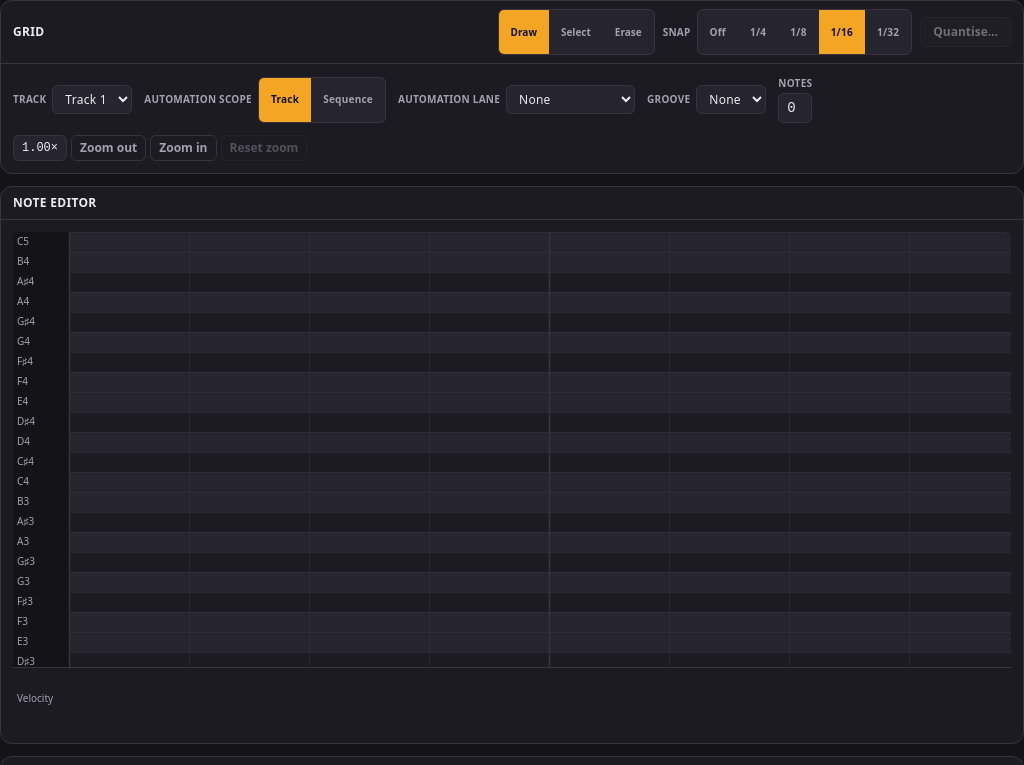
Test: the automation lane picker (spec §8.5.2, §7.8) › drops a lane the newly selected track does not own
Select "Track 1 · level" in the dropdown labelled "Automation lane" at (571,100), box [506,85,635,114]
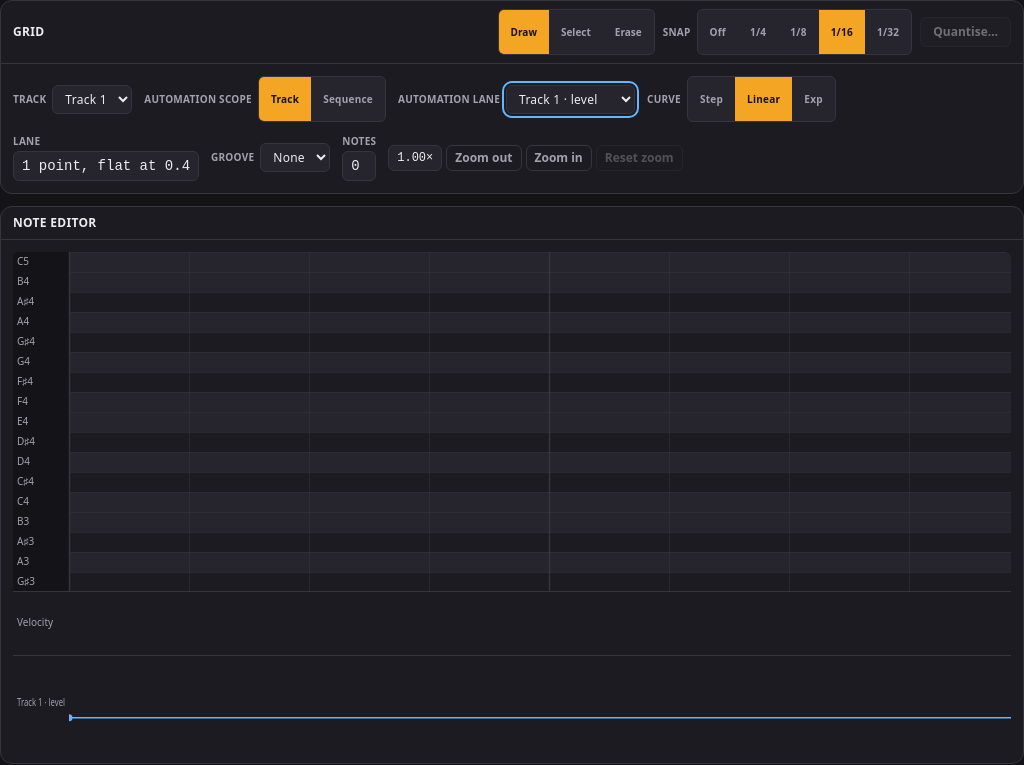
Now the text with test id "grid-automation-summary" shows "flat at 0.4", box [22,158,190,174]
Select "Track 2" in the dropdown named "Track to edit" at (92,99), box [52,84,132,114]
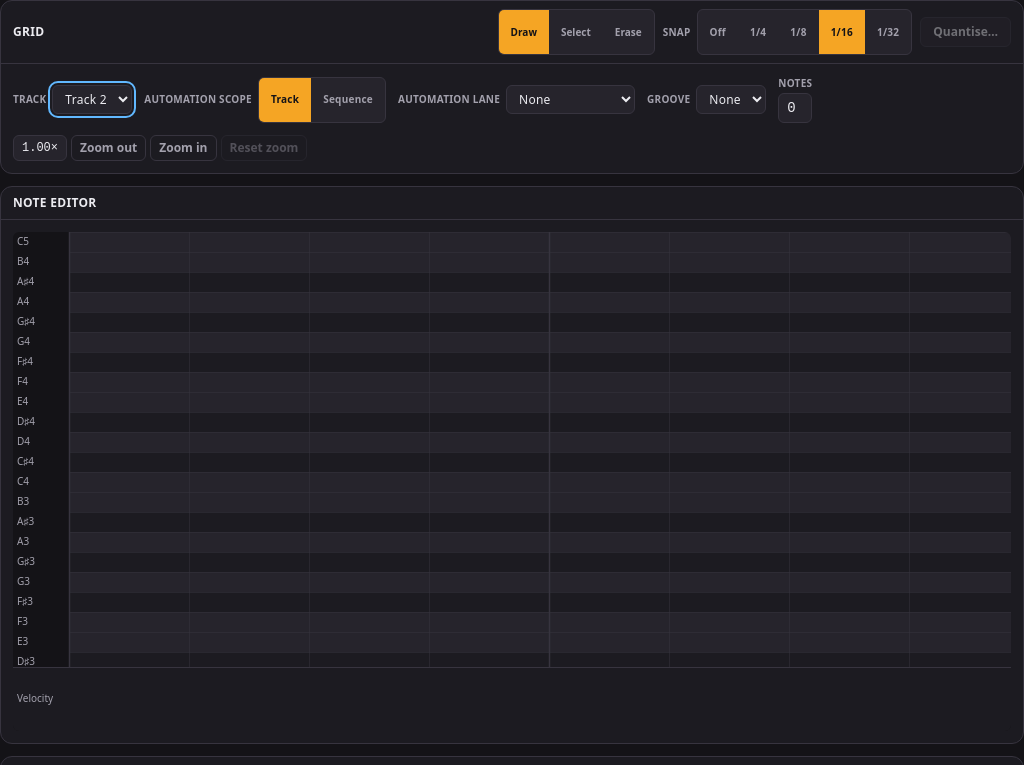
Now the text with test id "grid-automation-summary" is gone
